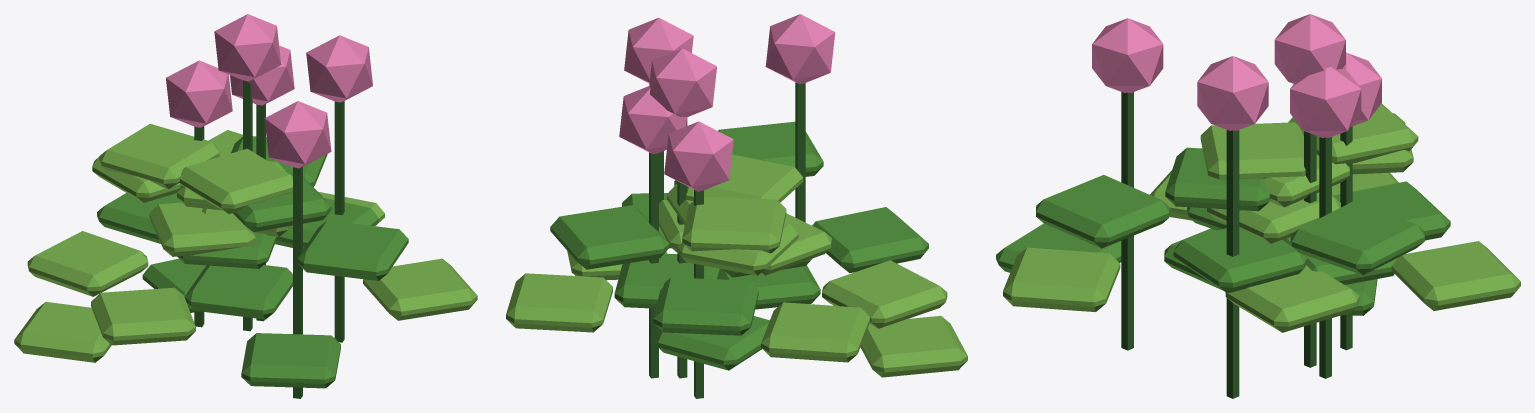
File: buisson_prairie_3.glb
3 renders of one model, left to right at view 1: azimuth 30°, elevation 25°; view 2: azimuth 150°, elevation 25°; view 3: azimuth 270°, elevation 25°, orthographic. The views are drawn at different scales.
Visible parts, largest first — view 1: trefle_feuille_claire.002, trefle_feuille.002, trefle_rose.002, trefle_feuille_sombre.002; view 2: trefle_feuille_claire.002, trefle_feuille.002, trefle_rose.002, trefle_feuille_sombre.002; view 3: trefle_feuille_claire.002, trefle_feuille.002, trefle_rose.002, trefle_feuille_sombre.002.
Part boxes in pixels (x1,y1,x2,y2): trefle_feuille_claire.002: (14, 123, 477, 362); trefle_feuille.002: (97, 136, 408, 388); trefle_rose.002: (166, 14, 372, 168); trefle_feuille_sombre.002: (194, 80, 344, 398); trefle_feuille_claire.002: (506, 154, 967, 377); trefle_feuille.002: (550, 121, 928, 370); trefle_rose.002: (619, 14, 835, 191); trefle_feuille_sombre.002: (649, 82, 805, 398); trefle_feuille_claire.002: (1003, 103, 1520, 332); trefle_feuille.002: (996, 147, 1450, 315); trefle_rose.002: (1092, 14, 1381, 137); trefle_feuille_sombre.002: (1121, 92, 1352, 398).
Bounding box in the file's own units: 0.4583 × 0.3695 × 0.5003.
